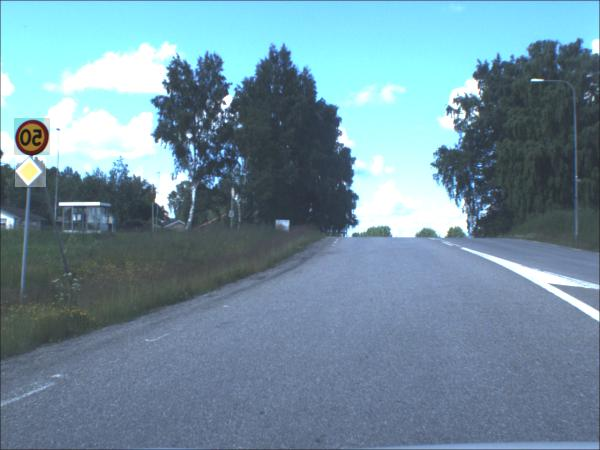50_SIGN: (14, 119, 51, 157)
PRIORITY_ROAD: (15, 157, 47, 189)
